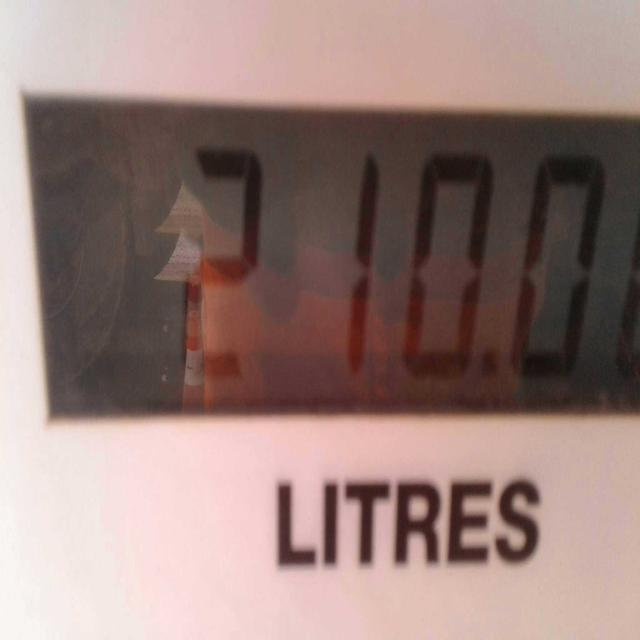.: (472, 335, 512, 394)
0: (504, 140, 609, 394), (398, 145, 500, 394)
1: (317, 145, 394, 385)
2: (171, 132, 268, 393)
